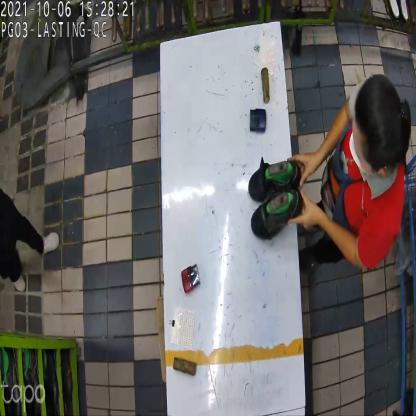shoes: (248, 158, 305, 242)
stamp: (182, 260, 201, 298), (249, 104, 266, 138)
